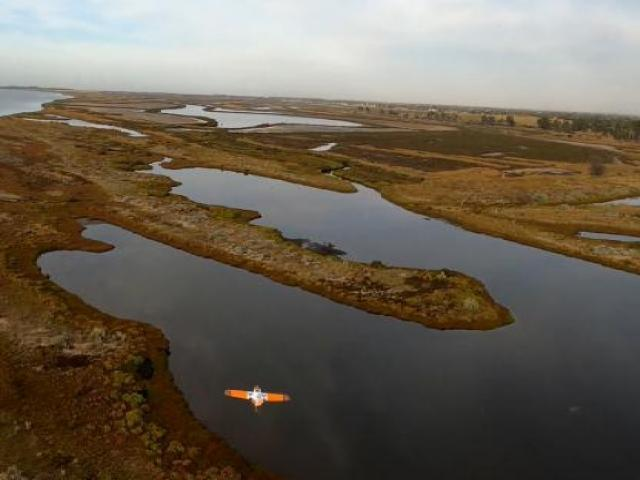uav: (223, 378, 289, 409)
